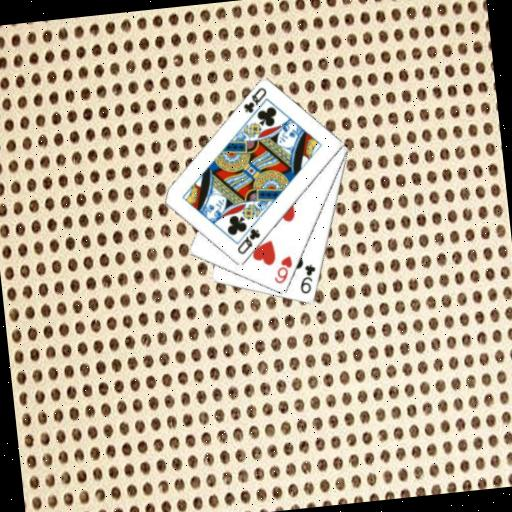6H: (269, 253, 296, 286)
9C: (295, 261, 320, 297)
QC: (232, 225, 264, 257), (238, 84, 270, 116)
